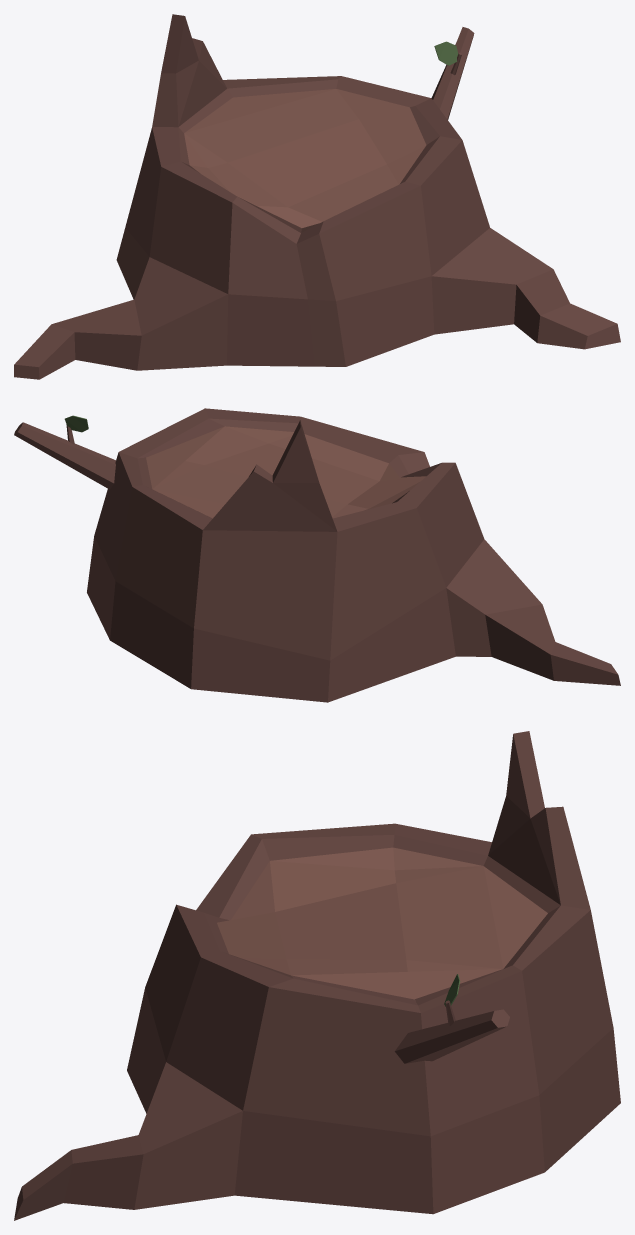
File: TreeStump.gltf
3 renders of one model, top to bottom at view 1: azimuth 30°, elevation 25°; view 2: azimuth 150°, elevation 25°; view 3: azimuth 270°, elevation 25°, orthographic. The views are drawn at different scales.
Parts seen in each view (by area): view 1: TreeStump; view 2: TreeStump; view 3: TreeStump.
Boxes of the visible parts, box(x1,y1,x2,y2) form: TreeStump: box(14, 14, 620, 379); TreeStump: box(14, 408, 620, 702); TreeStump: box(14, 731, 620, 1220).
Bounding box in the file's own units: 1.36 × 0.6216 × 1.03.
